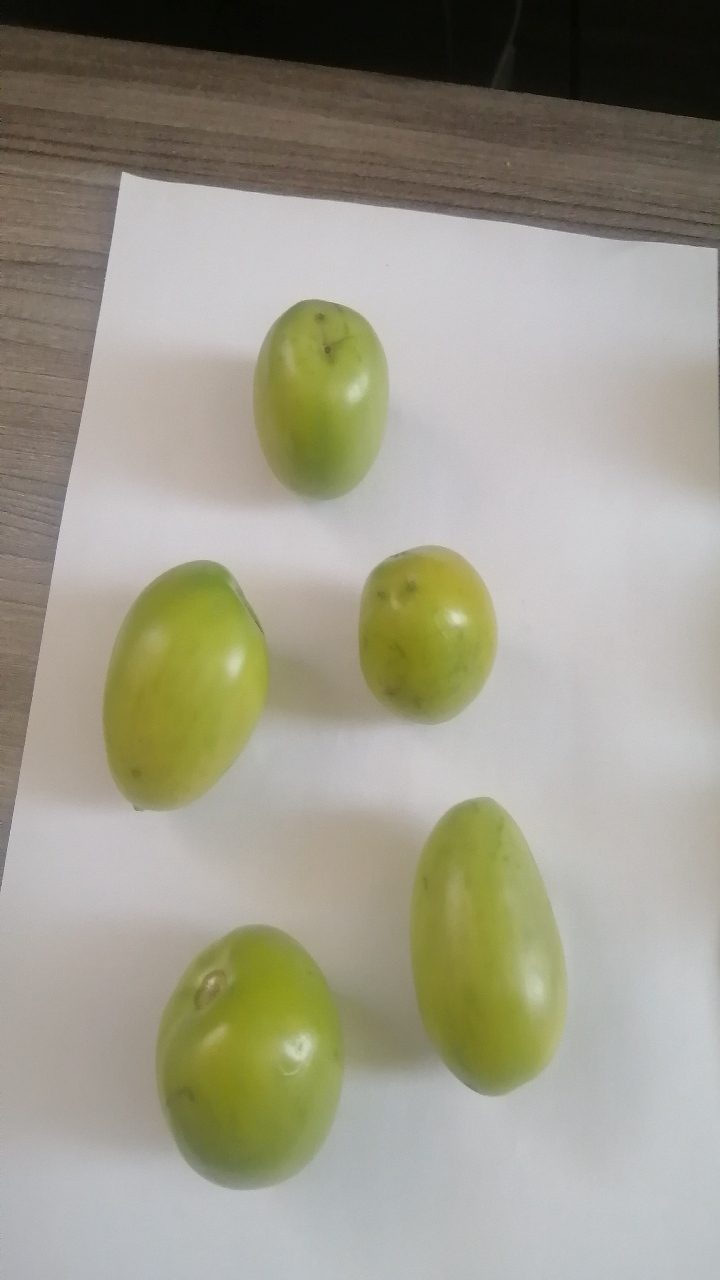tomateVerde: (384, 779, 604, 1119), (134, 899, 358, 1217), (74, 539, 294, 837), (241, 285, 409, 511), (346, 519, 514, 726)
